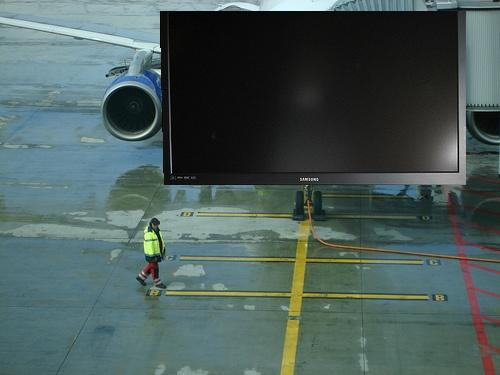tampered: (161, 12, 466, 185)
